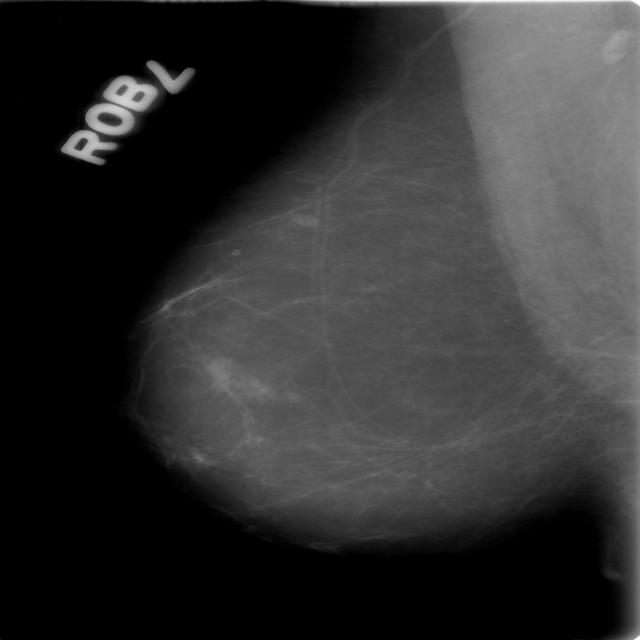normal: (123, 2, 640, 556)
